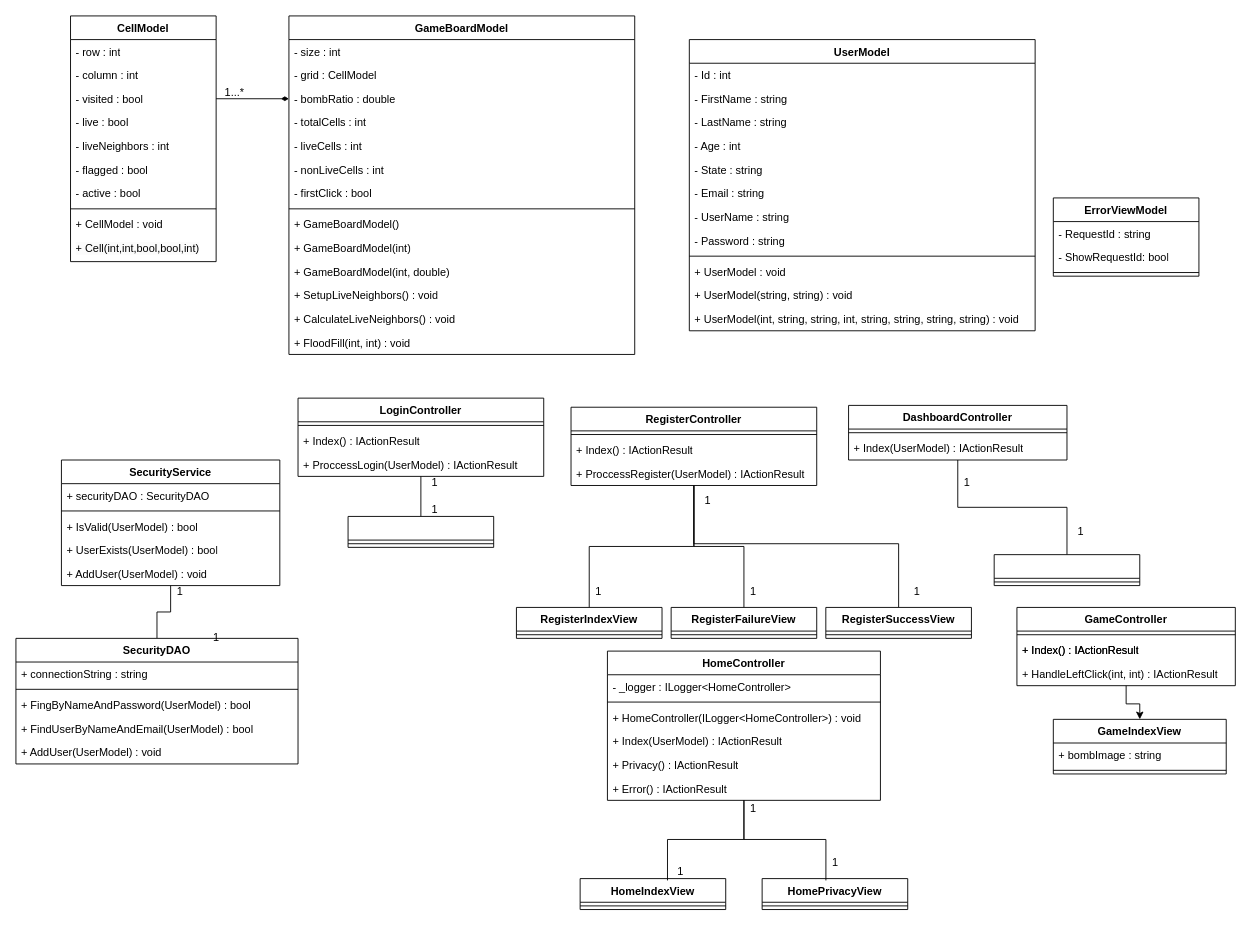
Some shapes in this 1251 by 925 pixel diagram are drawn without their labels. The shapes that lost their labels are listed below. From the top down, each one's centre as x and y in pixels, then its label:
the point at 420,531: LoginIndexView
the point at 1066,570: DashboardIndexView
